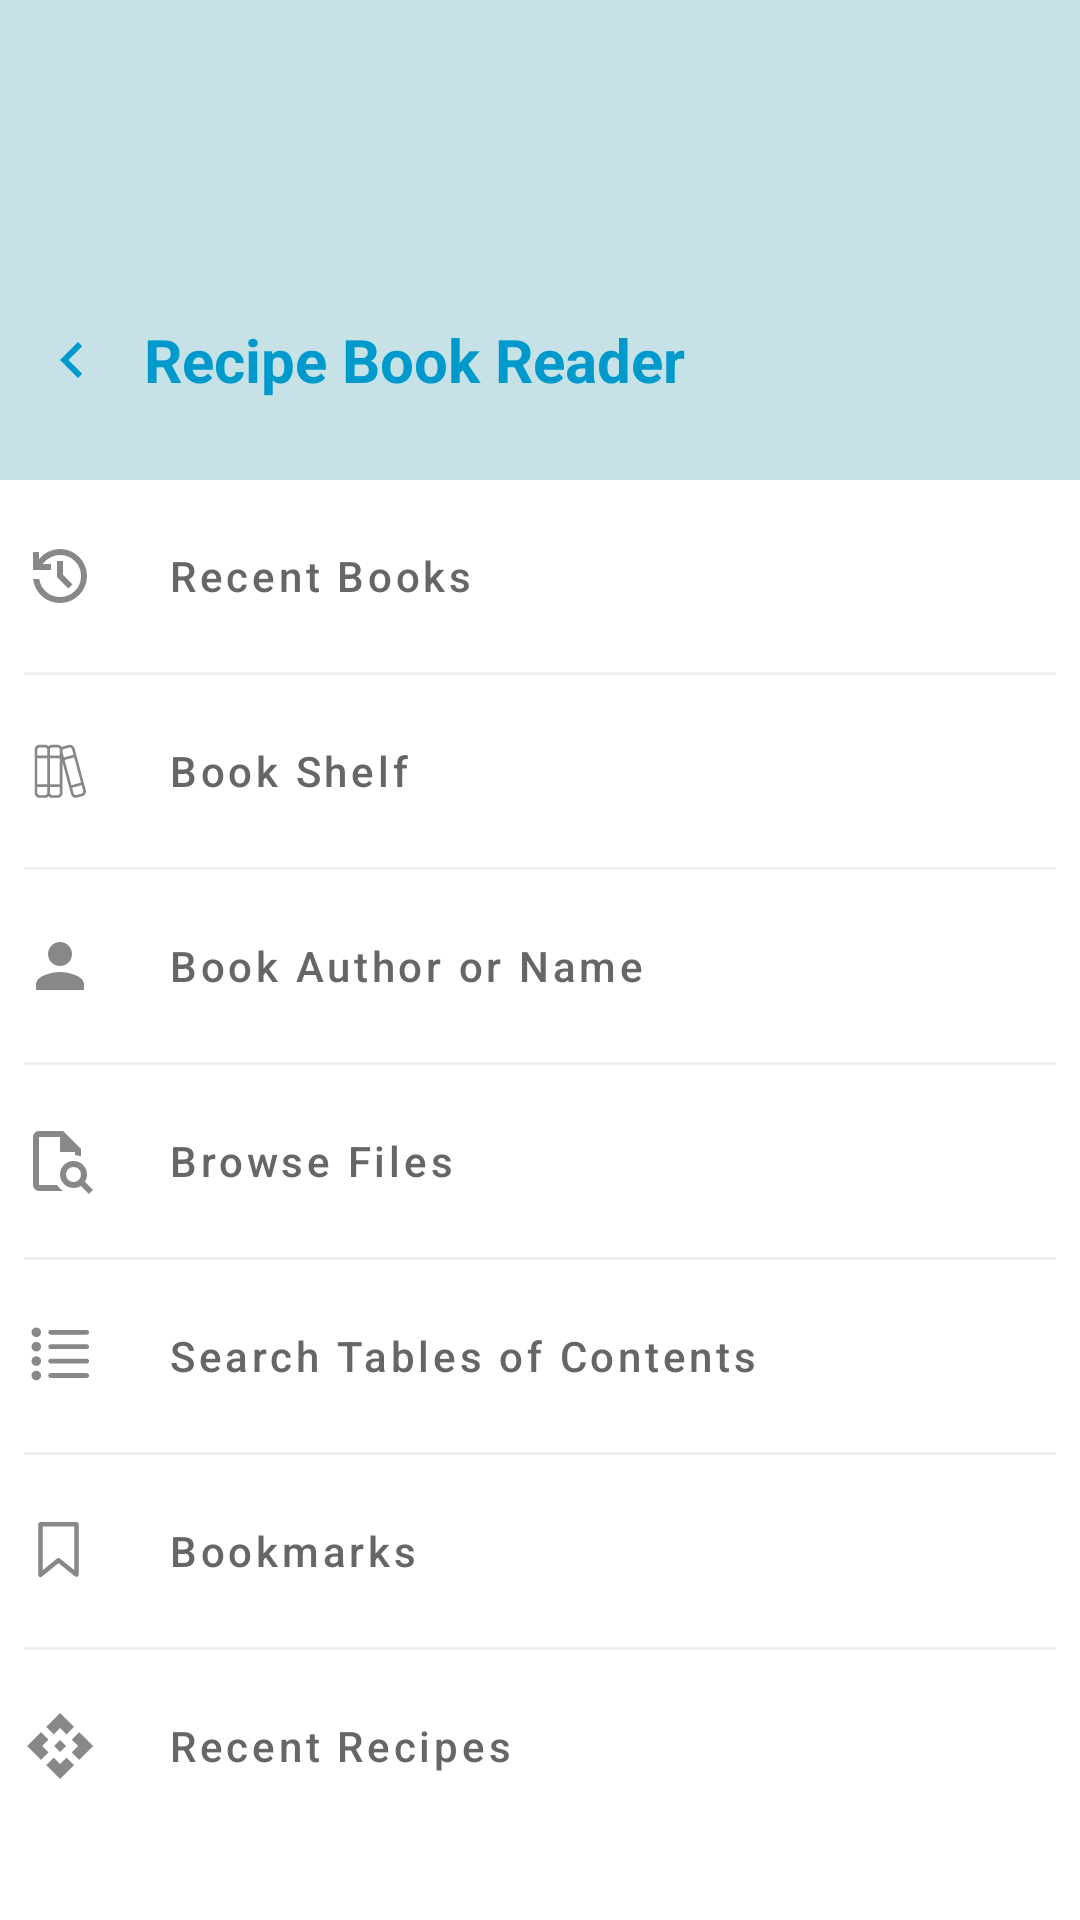

Icons on this 1080×1920 Android screen, each with the point to tap as (x,y):
book browser: (63,1162)
bookmark open: (58,1549)
Button to close drawer: (71,360)
Recently Viewed Books: (60,576)
toc: (60,1354)
